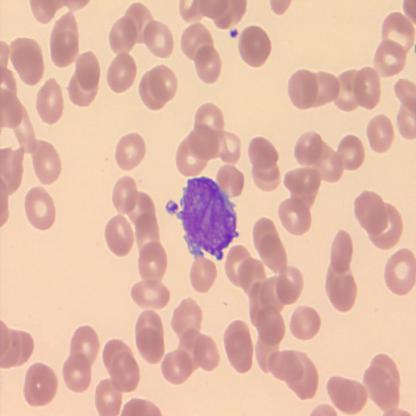Blast: (165, 175, 240, 262)
